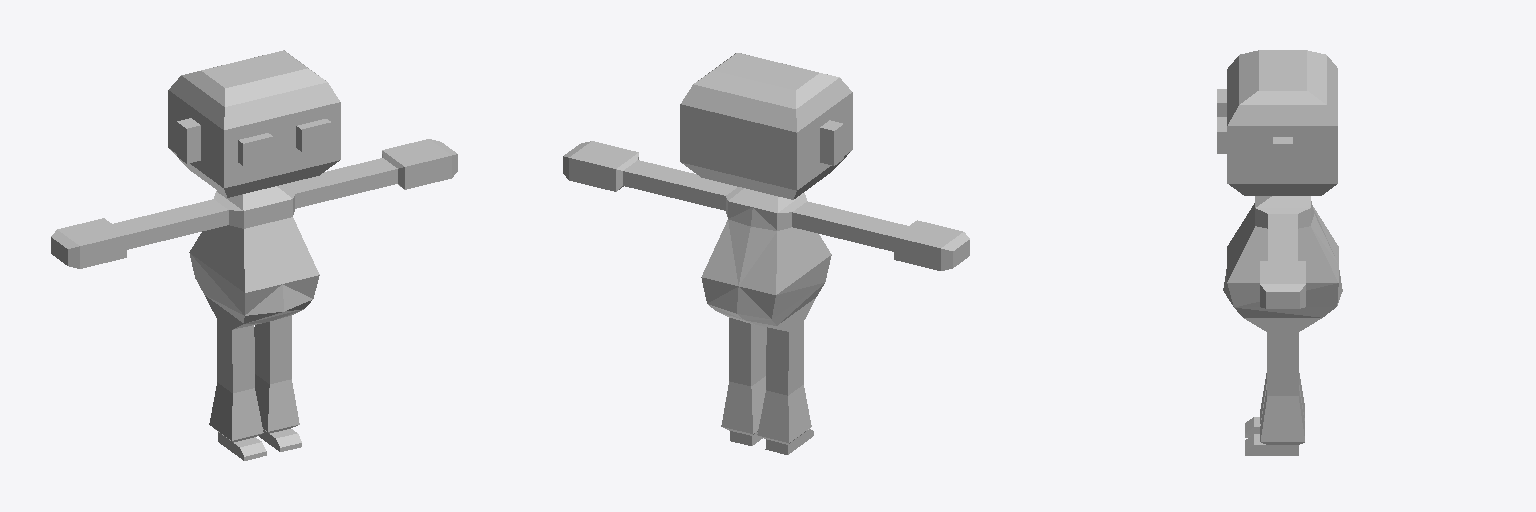
Rendered from Ludzik2.obj.
3 renders of one model, left to right at view 1: azimuth 30°, elevation 25°; view 2: azimuth 150°, elevation 25°; view 3: azimuth 270°, elevation 25°, orthographic.
Visible parts, largest first — view 1: Cube; view 2: Cube; view 3: Cube.
Boxes of the visible parts, <box> form: Cube: <box>51,50,457,460</box>; Cube: <box>563,53,969,454</box>; Cube: <box>1217,50,1342,455</box>.
Bounding box in the file's own units: 16.34 × 14.84 × 4.55.